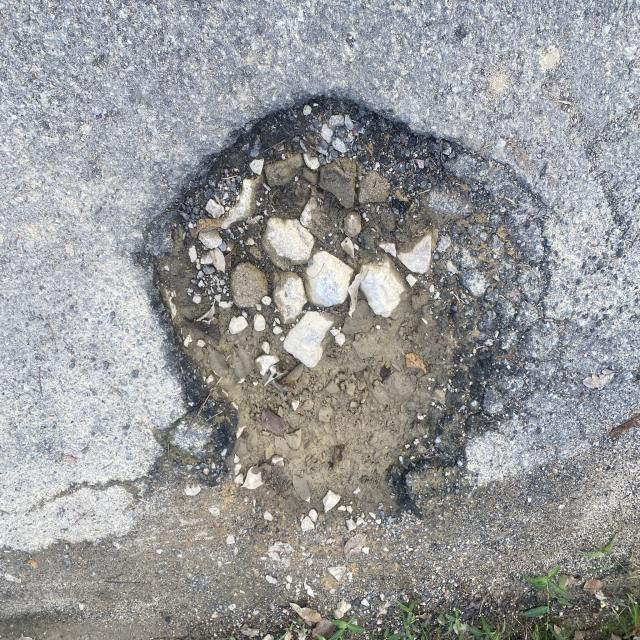Pothole: (128, 88, 532, 547)
